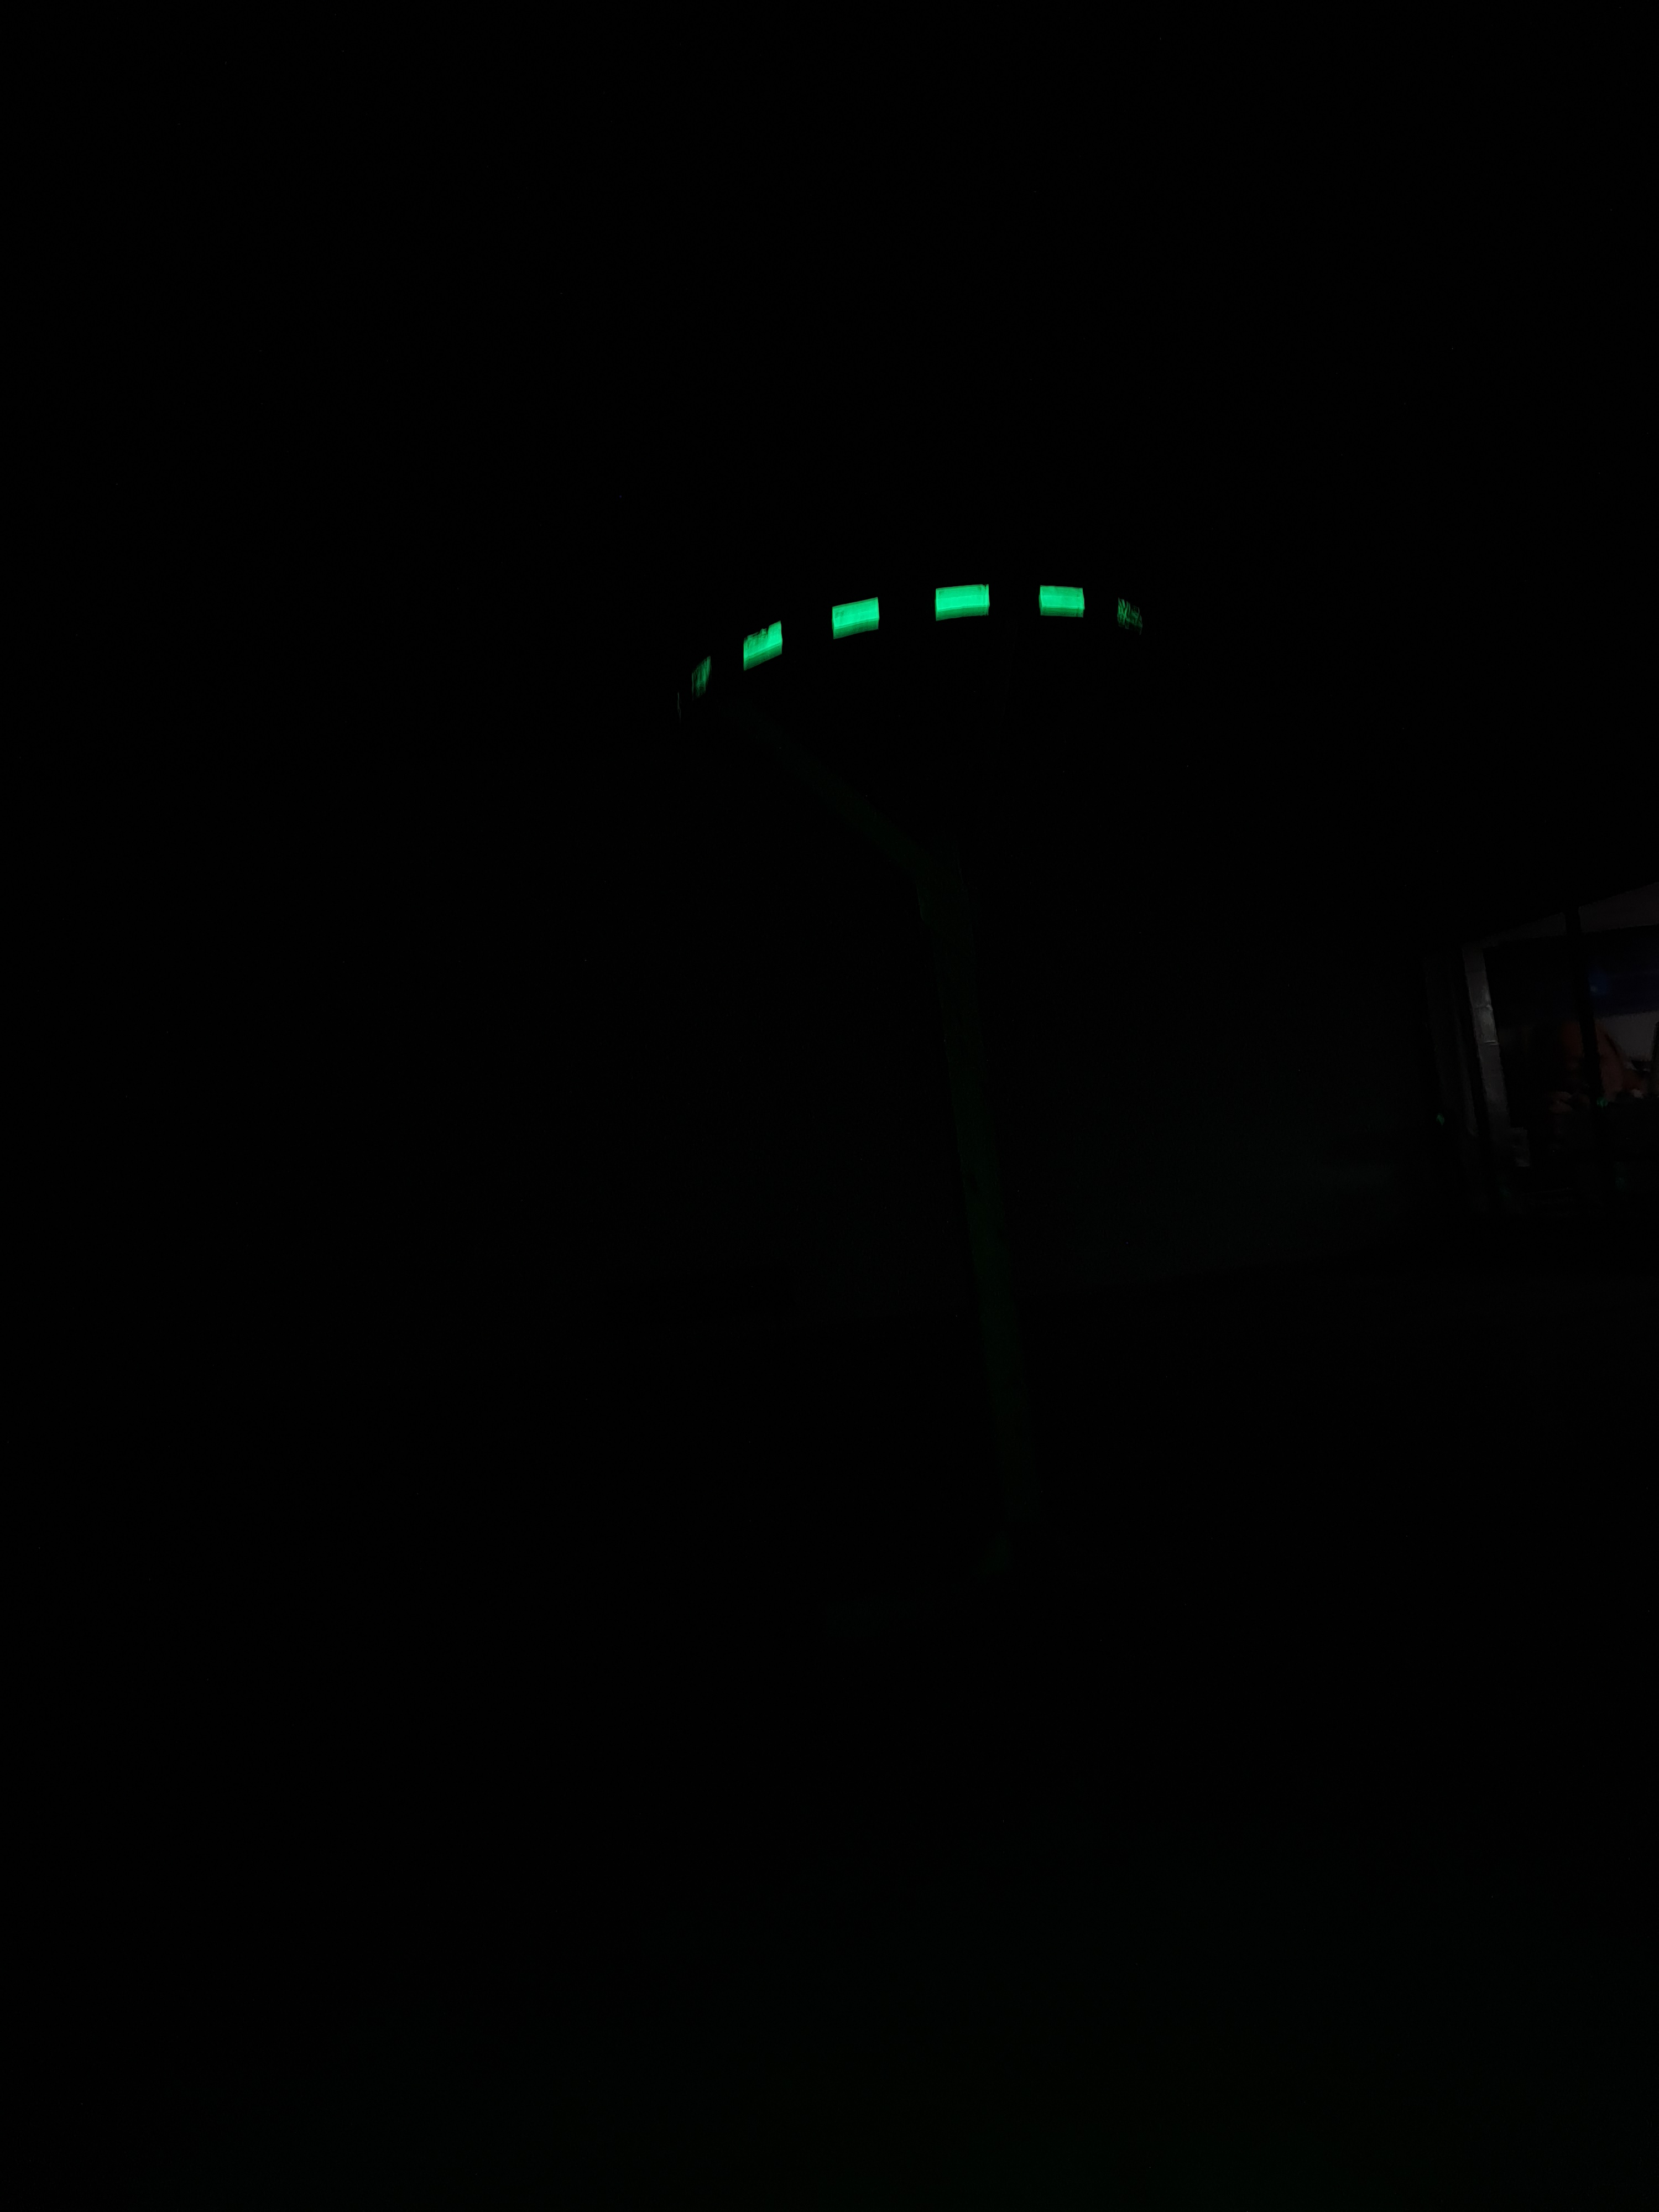hoop: (650, 542, 1178, 721)
